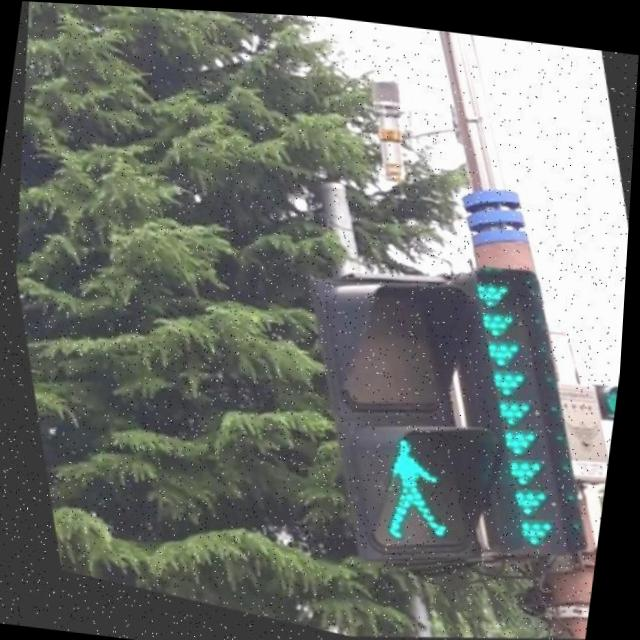green_light: (347, 414, 486, 564)
